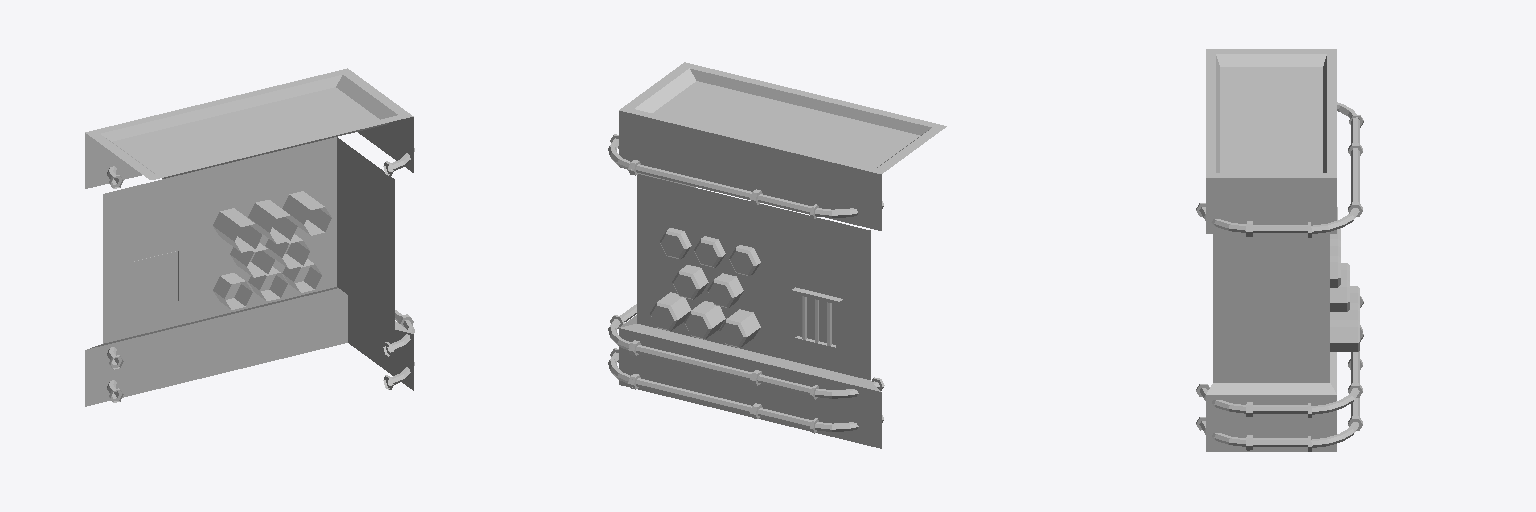
Rendered from JC_ModPanels_PrisonBlock.obj.
3 renders of one model, left to right at view 1: azimuth 30°, elevation 25°; view 2: azimuth 150°, elevation 25°; view 3: azimuth 270°, elevation 25°, orthographic.
Parts seen in each view (by area): view 1: polySurface166; view 2: polySurface166; view 3: polySurface166.
Boxes of the visible parts, x1,y1,x2,y2 form: polySurface166: [85, 68, 414, 406]; polySurface166: [608, 62, 946, 448]; polySurface166: [1196, 49, 1363, 451].
Bounding box in the file's own units: 499 × 460 × 256.